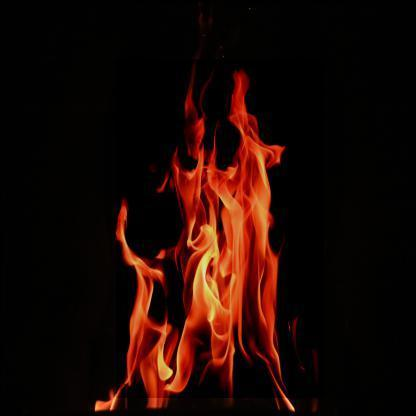Fire: (90, 72, 295, 416)
